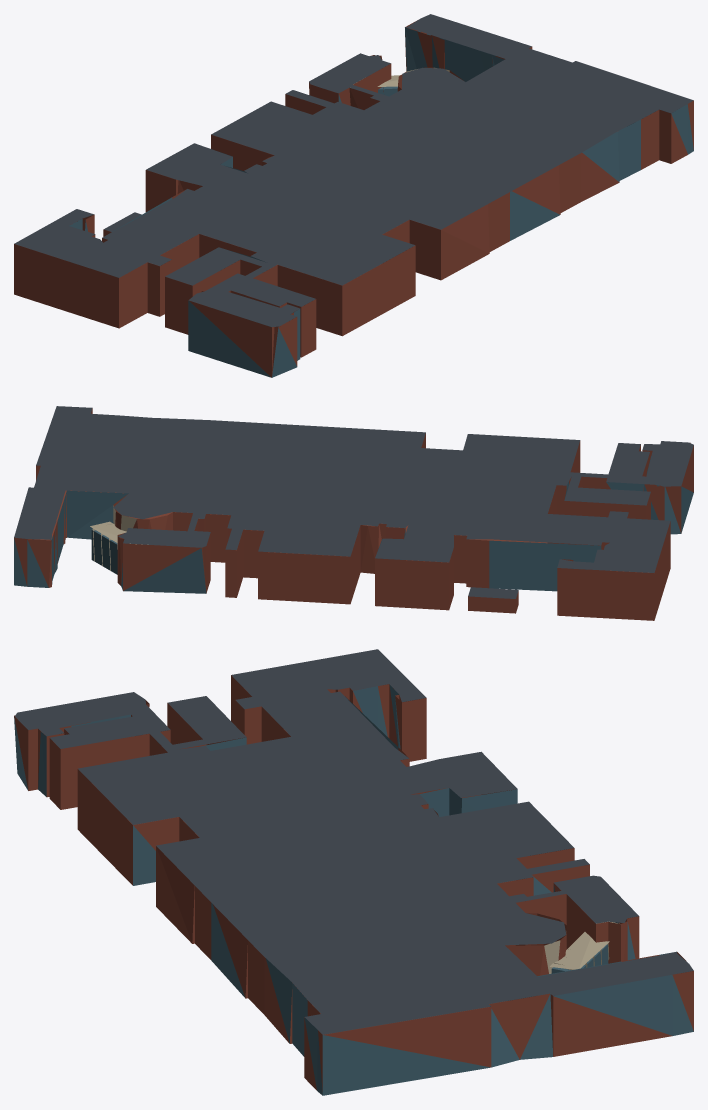
The model's file is olvg-oost.lod2.glb.
3 views of the same model, one above another, from view 1: azimuth 30°, elevation 25°; view 2: azimuth 150°, elevation 25°; view 3: azimuth 270°, elevation 25° (orthographic). The views are drawn at different scales.
Parts seen in each view (by area): view 1: lod2; view 2: lod2; view 3: lod2.
Part boxes in pixels (<box>): lod2: <box>14,14,693,377</box>; lod2: <box>14,406,693,620</box>; lod2: <box>14,649,693,1095</box>.
Bounding box in the file's own units: 258 × 19.04 × 192.
